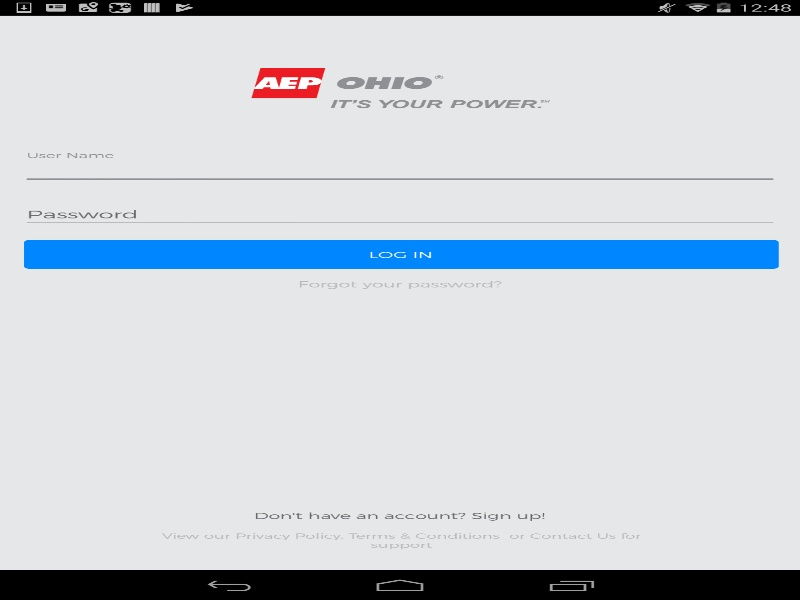Button: (21, 240, 778, 270)
Input: (21, 157, 778, 184), (21, 200, 778, 227)
